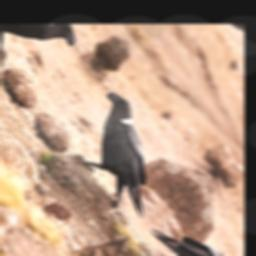Crow: (48, 83, 190, 234)
